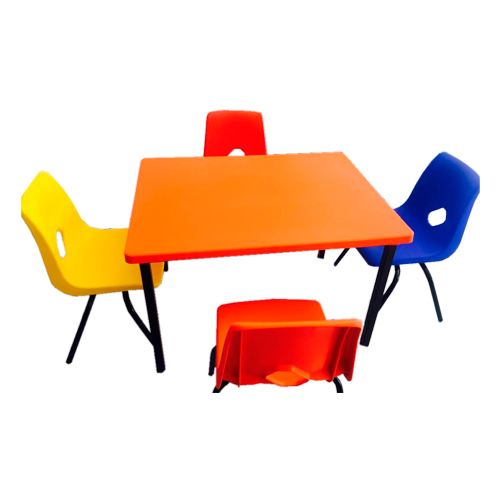m01: (124, 151, 414, 375)
